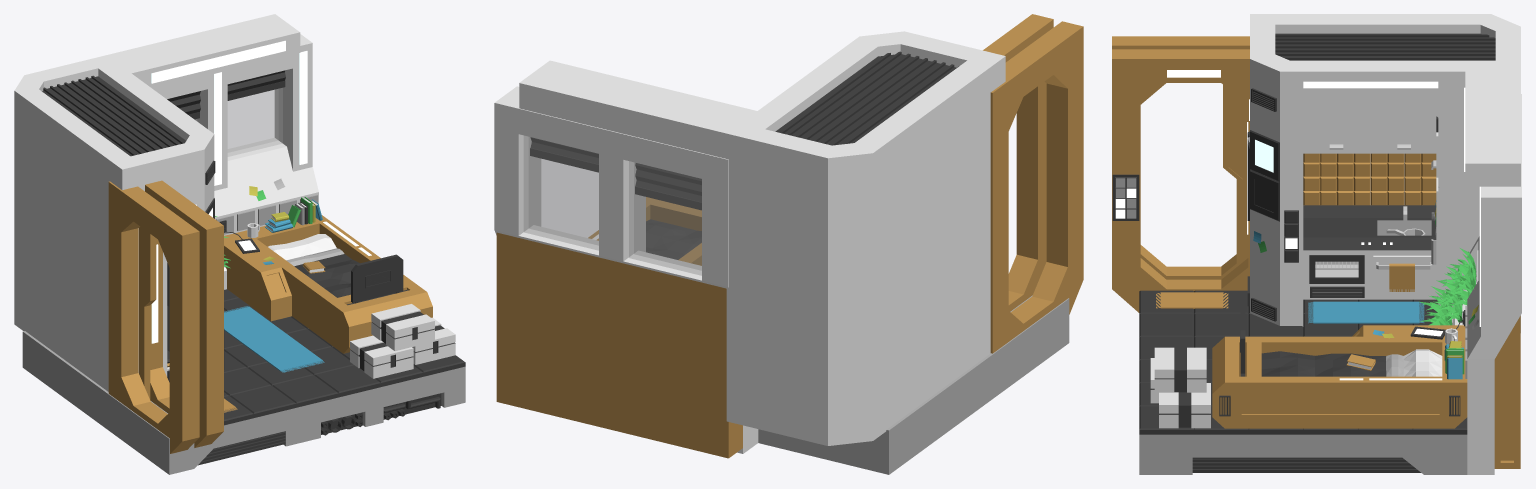
Rendered from jesse-riggle-futuristic-micro-apartments.fbx.
3 views of the same model, side by side, from view 1: azimuth 30°, elevation 25°; view 2: azimuth 150°, elevation 25°; view 3: azimuth 270°, elevation 25° (orthographic). The views are drawn at different scales.
Visible parts, largest first — view 1: Mur_BLANC_BLANC_0, Porte_ORANGE_ORANGE_0, Socle_GRIS_GRIS_0, Fenetres_BLANC_BLANC_0, Lit_ORANGE_ORANGE_0, Damier_NOIR_NOIR_0, Toit_NOIR_NOIR_0, Tapis_01_BLEU_BLEU_0, Fenetres_VITRE_VITRE_0, Sous_socle_NOIR_NOIR_0, Battant_Porte_ORANGE_ORANGE_0, Tele_NOIR_NOIR_0 (+11 smaller); view 2: Mur_BLANC_BLANC_0, Sous_mur_ORANGE_ORANGE_0, Porte_ORANGE_ORANGE_0, Fenetres_BLANC_BLANC_0, Fenetres_VITRE_VITRE_0, Socle_GRIS_GRIS_0, Toit_NOIR_NOIR_0, Stores_NOIR_NOIR_0, Lit_NOIR_NOIR_0, Lit_ORANGE_ORANGE_0; view 3: Mur_BLANC_BLANC_0, Lit_ORANGE_ORANGE_0, Porte_ORANGE_ORANGE_0, Facade_BLANC_BLANC_0, Damier_NOIR_NOIR_0, Fenetres_BLANC_BLANC_0, Socle_GRIS_GRIS_0, Credance_ORANGE_ORANGE_0, Toit_NOIR_NOIR_0, Plan_travail_NOIR_NOIR_0, Sous_mur_ORANGE_ORANGE_0, Sous_socle_NOIR_NOIR_0 (+22 smaller).
Part boxes in pixels (x1,y1,x2,y2): Mur_BLANC_BLANC_0: (14, 14, 300, 391); Porte_ORANGE_ORANGE_0: (108, 180, 223, 453); Socle_GRIS_GRIS_0: (22, 331, 465, 474); Fenetres_BLANC_BLANC_0: (153, 34, 318, 235); Lit_ORANGE_ORANGE_0: (224, 215, 432, 353); Damier_NOIR_NOIR_0: (224, 289, 465, 425); Toit_NOIR_NOIR_0: (42, 75, 185, 156); Tapis_01_BLEU_BLEU_0: (224, 306, 324, 372); Fenetres_VITRE_VITRE_0: (195, 88, 282, 156); Sous_socle_NOIR_NOIR_0: (198, 393, 441, 465); Battant_Porte_ORANGE_ORANGE_0: (139, 226, 156, 399); Tele_NOIR_NOIR_0: (347, 254, 408, 305); Mur_BLANC_BLANC_0: (519, 31, 1005, 445); Sous_mur_ORANGE_ORANGE_0: (496, 232, 742, 458); Porte_ORANGE_ORANGE_0: (983, 14, 1083, 353); Fenetres_BLANC_BLANC_0: (494, 86, 758, 453); Fenetres_VITRE_VITRE_0: (524, 136, 701, 275); Socle_GRIS_GRIS_0: (758, 295, 1069, 474); Toit_NOIR_NOIR_0: (775, 51, 959, 145); Stores_NOIR_NOIR_0: (530, 137, 701, 210); Lit_NOIR_NOIR_0: (646, 219, 701, 259); Lit_ORANGE_ORANGE_0: (588, 197, 701, 265); Mur_BLANC_BLANC_0: (1250, 14, 1520, 332); Lit_ORANGE_ORANGE_0: (1212, 325, 1467, 428); Porte_ORANGE_ORANGE_0: (1112, 36, 1249, 312); Facade_BLANC_BLANC_0: (1303, 94, 1436, 299); Damier_NOIR_NOIR_0: (1139, 290, 1467, 434); Fenetres_BLANC_BLANC_0: (1467, 94, 1521, 474); Socle_GRIS_GRIS_0: (1139, 434, 1467, 474); Credance_ORANGE_ORANGE_0: (1303, 153, 1436, 205); Toit_NOIR_NOIR_0: (1275, 33, 1495, 60); Plan_travail_NOIR_NOIR_0: (1303, 205, 1436, 250); Sous_mur_ORANGE_ORANGE_0: (1494, 316, 1520, 468); Sous_socle_NOIR_NOIR_0: (1192, 457, 1420, 472).
Size of the model in its own units: 30160 by 26000 by 32143.
